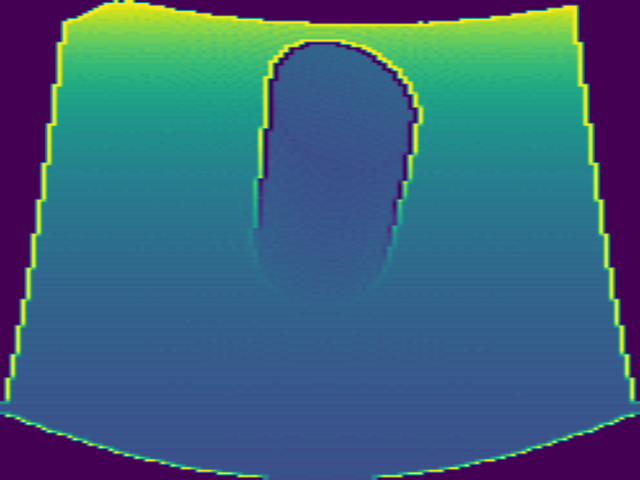cylinder: (252, 38, 424, 300)
